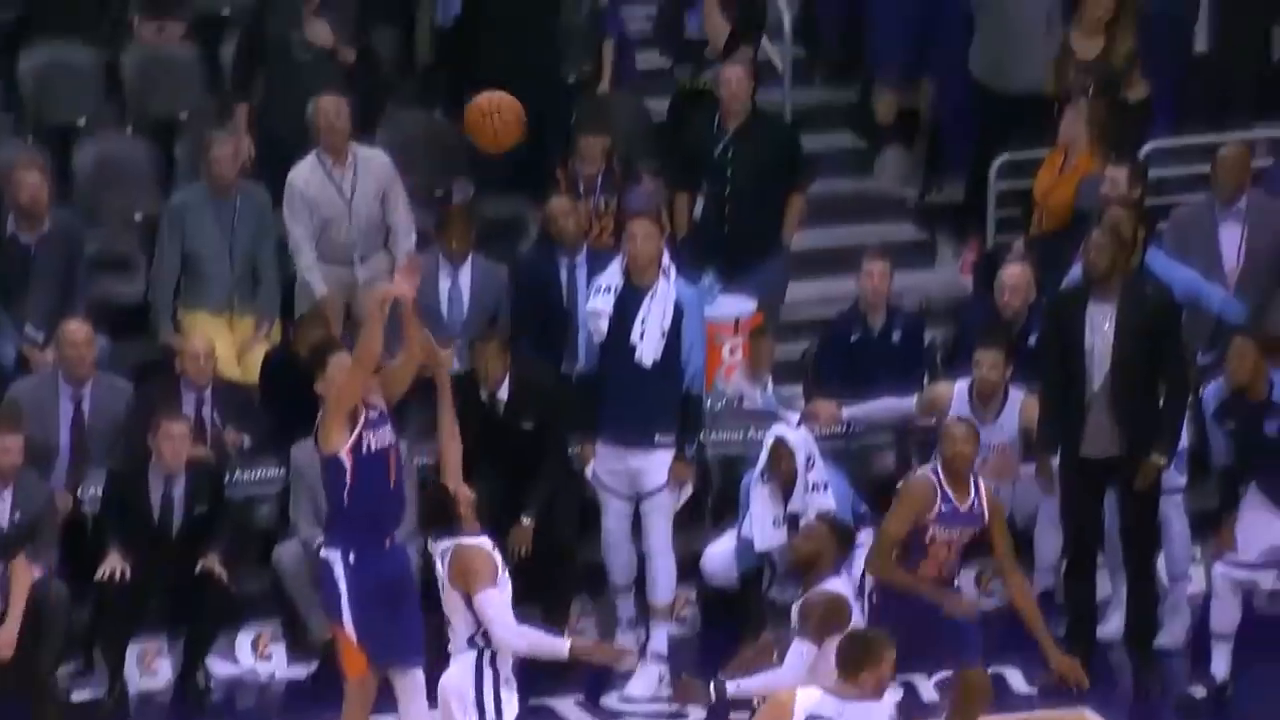ball: (462, 93, 531, 157)
